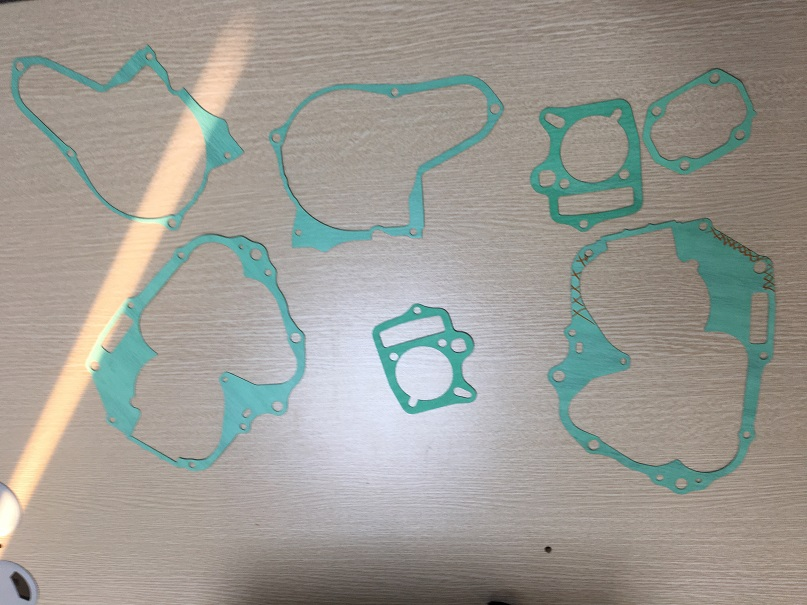type1: (257, 72, 507, 254), (4, 44, 247, 230)
type2: (639, 61, 760, 177)
type3: (550, 219, 780, 500), (77, 225, 308, 476)
type4: (520, 97, 646, 231), (363, 292, 486, 426)
